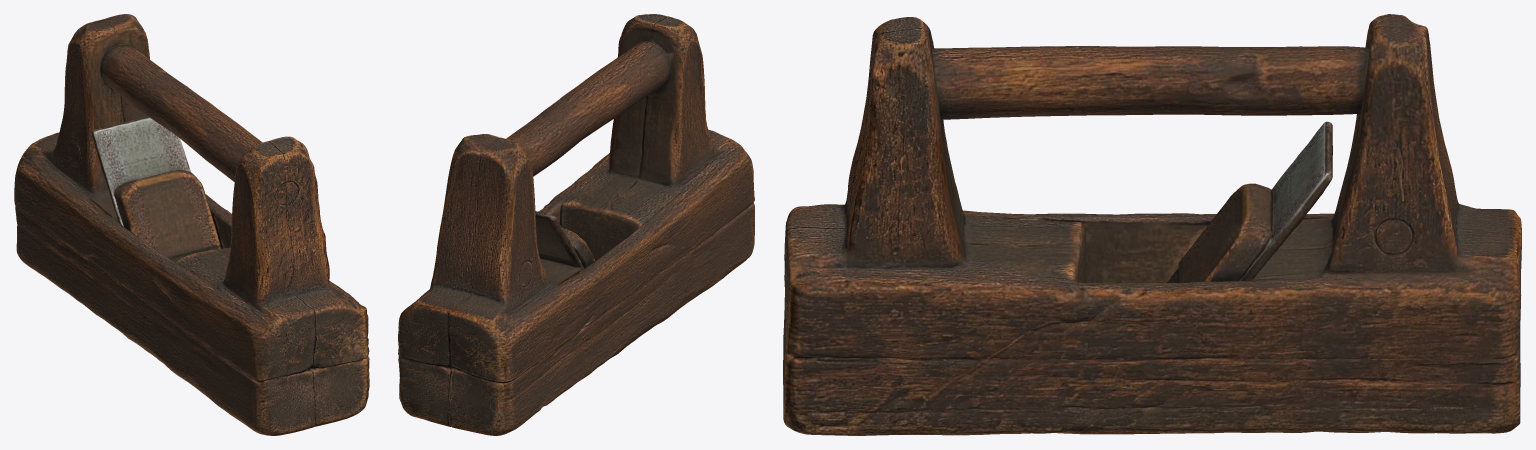
File: handplane.glb
3 views of the same model, side by side, from view 1: azimuth 30°, elevation 25°; view 2: azimuth 150°, elevation 25°; view 3: azimuth 270°, elevation 25° (orthographic). The views are drawn at different scales.
Visible parts, largest first — view 1: tripo_node_f7666245-5895-4cd7-adbd-3bab63090f7b; view 2: tripo_node_f7666245-5895-4cd7-adbd-3bab63090f7b; view 3: tripo_node_f7666245-5895-4cd7-adbd-3bab63090f7b.
Boxes of the visible parts, x1,y1,x2,y2 form: tripo_node_f7666245-5895-4cd7-adbd-3bab63090f7b: (14,14,369,435); tripo_node_f7666245-5895-4cd7-adbd-3bab63090f7b: (398,14,754,435); tripo_node_f7666245-5895-4cd7-adbd-3bab63090f7b: (783,14,1521,435).
Bounding box in the file's own units: 0.2626 × 0.5612 × 1.
Materials: 1 (1 with a texture image).
